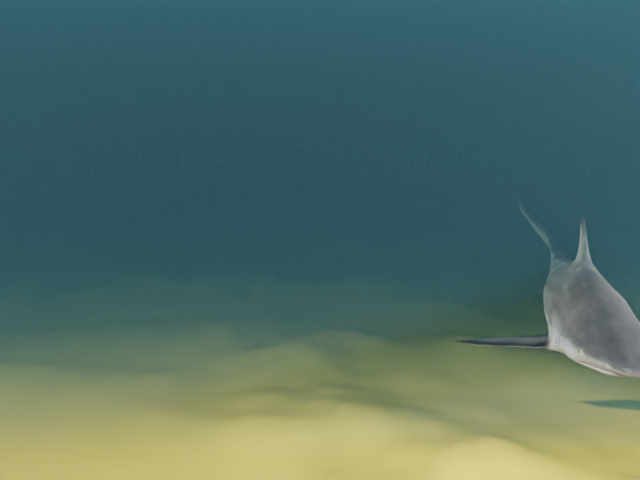Carribean Shark.001: (454, 197, 640, 377)
